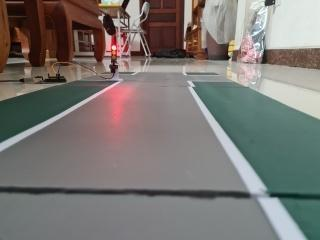red: (103, 41, 121, 73)
